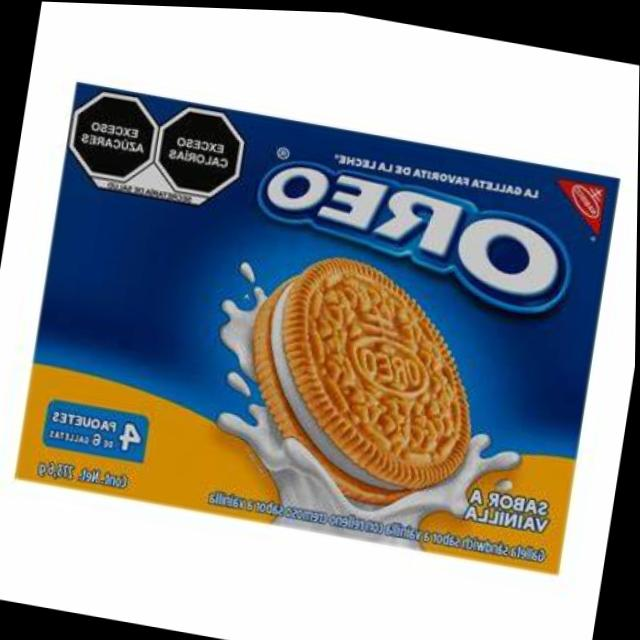Caja: (10, 83, 620, 579)
